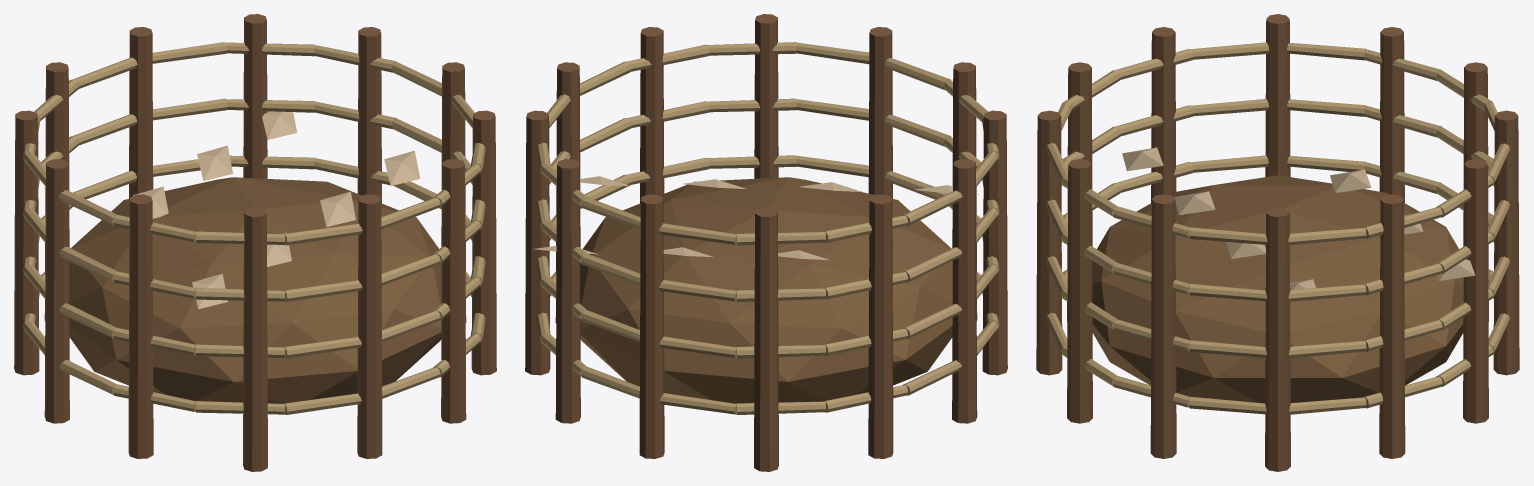
The picture shows the model from 3 angles, left to right: view 1: azimuth 30°, elevation 25°; view 2: azimuth 150°, elevation 25°; view 3: azimuth 270°, elevation 25°; orthographic projection.
Parts seen in each view (by area): view 1: WW-045 Leaf mould settling corral batched; view 2: WW-045 Leaf mould settling corral batched; view 3: WW-045 Leaf mould settling corral batched.
Part boxes in pixels (x1=…): WW-045 Leaf mould settling corral batched: x1=14, y1=14, x2=496, y2=471; WW-045 Leaf mould settling corral batched: x1=525, y1=14, x2=1007, y2=471; WW-045 Leaf mould settling corral batched: x1=1036, y1=14, x2=1519, y2=471.
Bounding box in the file's own units: 0.93 × 0.56 × 0.93.
